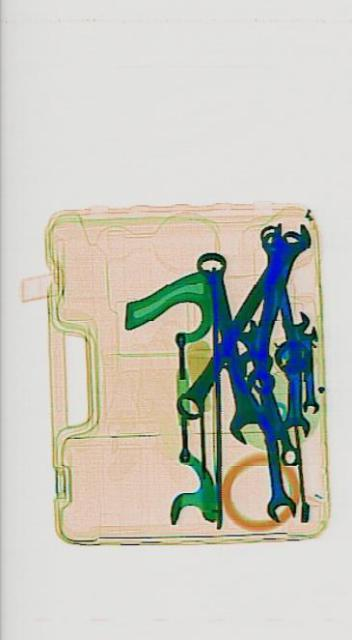Wrench: (171, 212, 303, 432), (186, 239, 269, 451), (230, 308, 301, 472), (236, 337, 295, 528), (278, 309, 309, 437), (297, 320, 317, 414)
